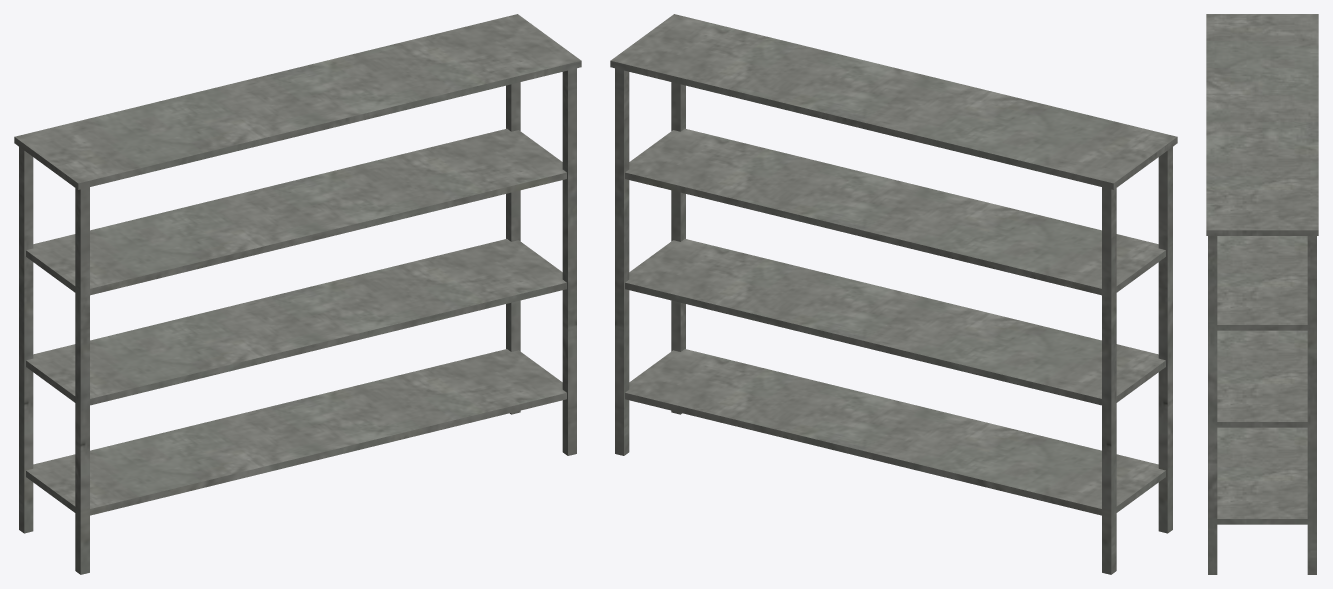
The model's file is MetalShelfStanding.glb.
3 renders of one model, left to right at view 1: azimuth 30°, elevation 25°; view 2: azimuth 150°, elevation 25°; view 3: azimuth 270°, elevation 25°, orthographic. The views are drawn at different scales.
Parts seen in each view (by area): view 1: Shelf; view 2: Shelf; view 3: Shelf.
Boxes of the visible parts, left/top/right/bottom form: Shelf: left=14, top=14, right=581, bottom=574; Shelf: left=610, top=14, right=1177, bottom=574; Shelf: left=1206, top=14, right=1318, bottom=574.
Size of the model in its own units: 3.64 by 2.72 by 0.8.
Materials: 1 (1 with a texture image).
